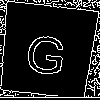G: (23, 25, 70, 77)
